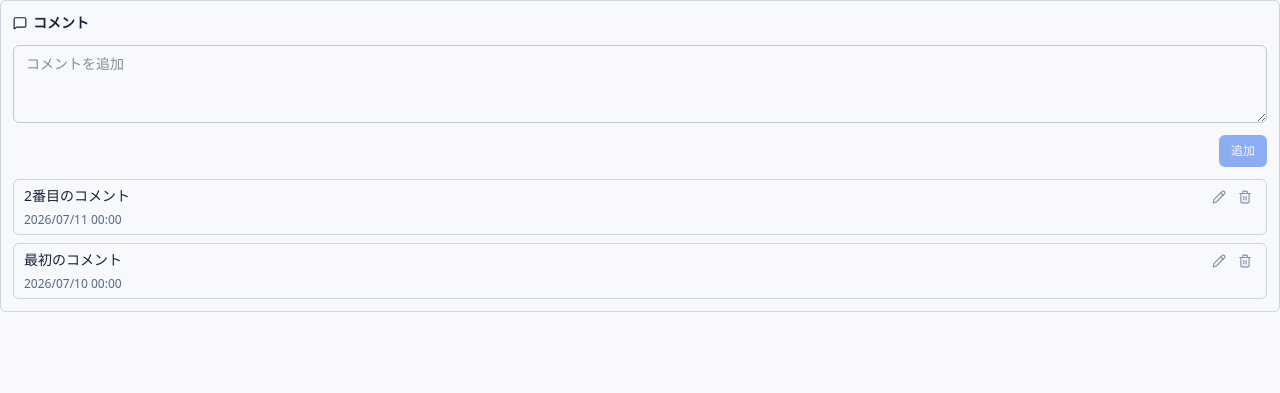
Test: TaskComments › コメントを追加する
Type "新しいコメント" into the text box with placeholder "コメントを追加".
click(640, 84); type("新しいコメント")  # box [13,45,1267,123]
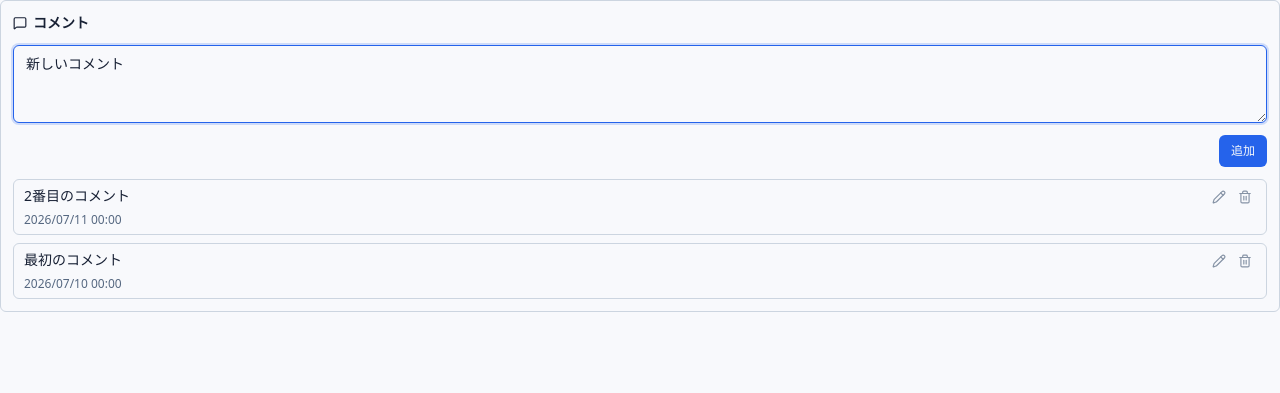
Click the button "追加".
click(1243, 151)  # box [1219,135,1267,167]
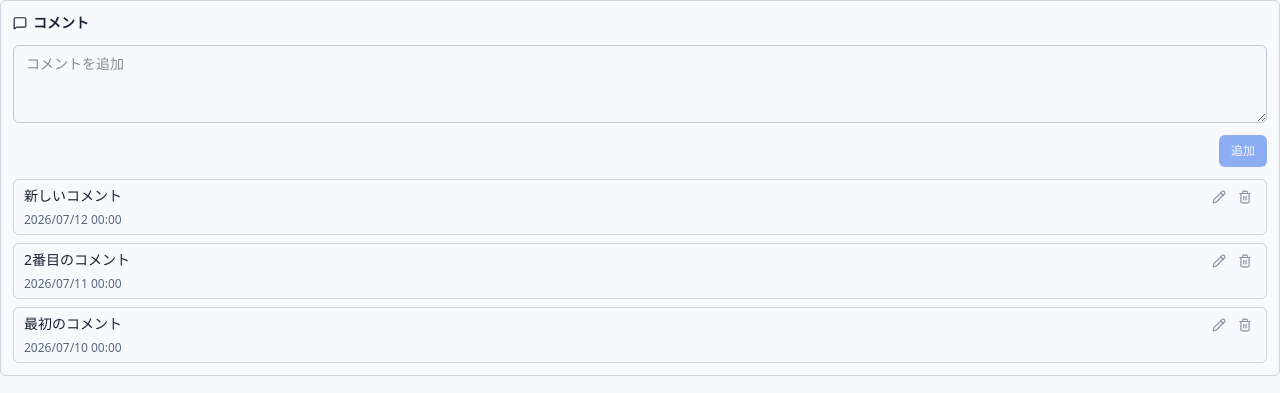
Expected: the button "新しいコメント" is shown, [24,186,1200,206]
Expected: the text box with placeholder "コメントを追加" is empty, [13,45,1267,123]
